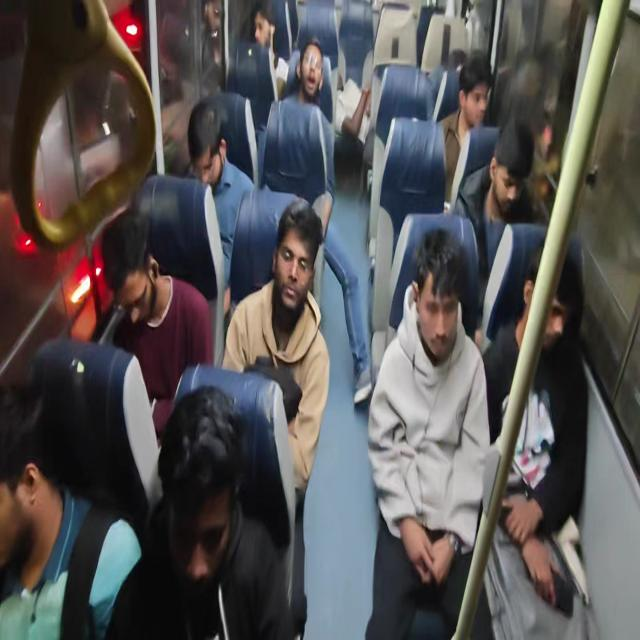person: (146, 381, 252, 613), (1, 374, 63, 620), (99, 198, 178, 350), (510, 233, 582, 370), (409, 224, 466, 368), (184, 99, 240, 207), (276, 200, 326, 314), (490, 115, 535, 211), (456, 49, 491, 124), (297, 31, 331, 100), (249, 7, 281, 58)
